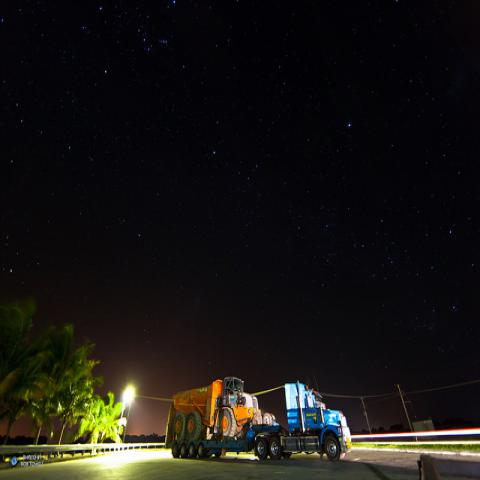truck: (165, 377, 353, 461)
